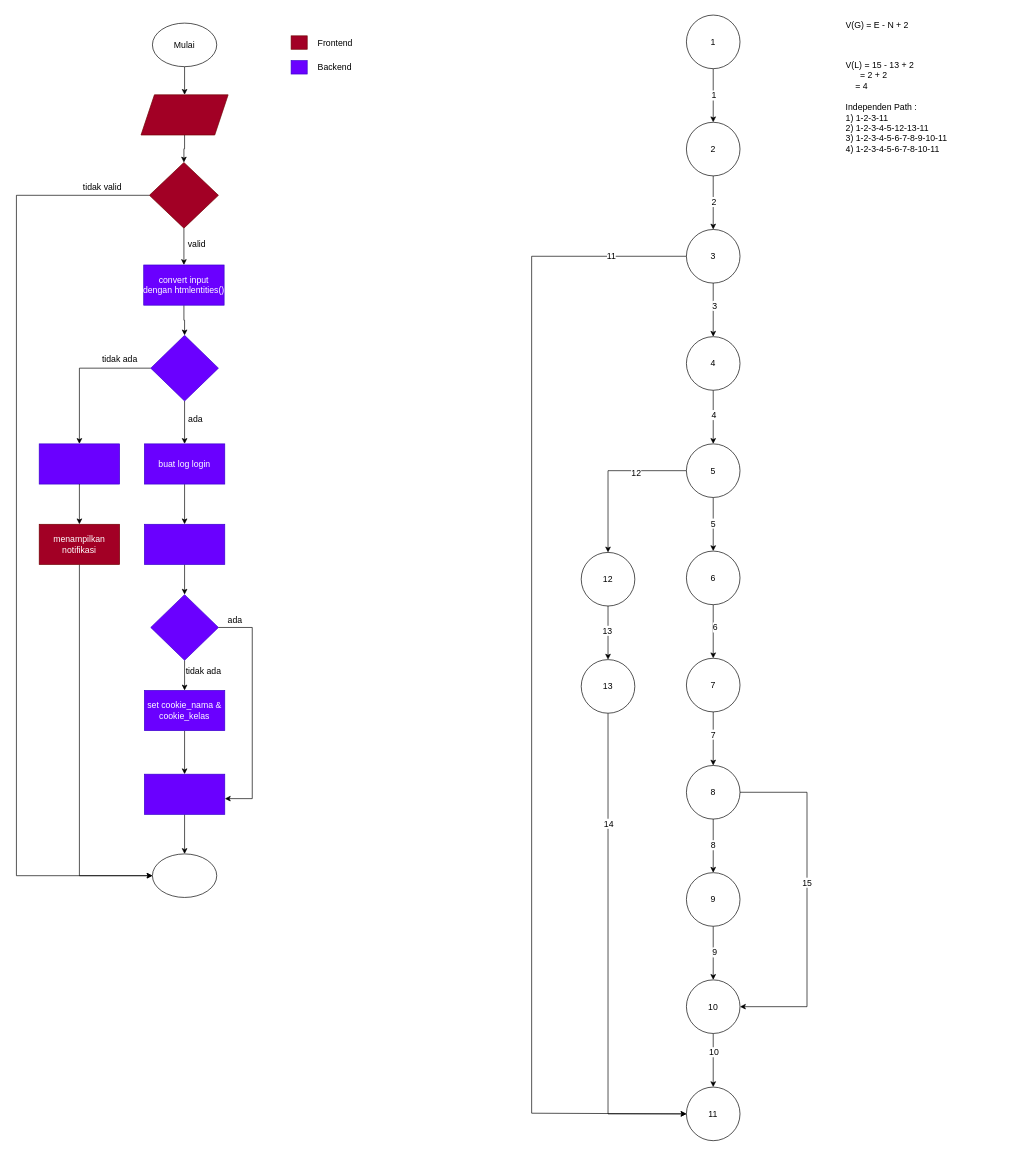
Some shapes in this 1027 by 1152 pixel diagram are drawn without their labels. The shapes that lost their labels are listed below. From the top down, each one's box as (x1, y1, x2, y2) in pixels, then its label:
(140, 94, 228, 135): input username & password
(149, 162, 218, 228): validasi input
(150, 335, 218, 401): cek user di database
(39, 443, 120, 484): redirect ke halaman login, dengan notifikasi
(144, 524, 225, 564): buat session
(150, 594, 218, 660): cek cookie_nama ada?
(144, 774, 225, 814): redirect ke home page
(152, 853, 217, 897): Selesai
